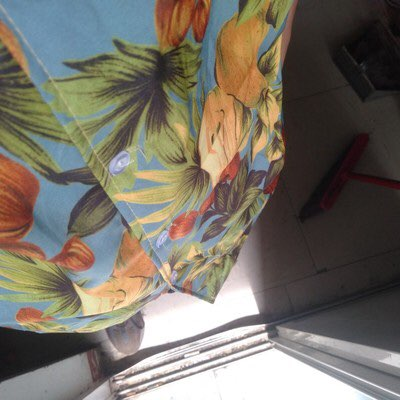shirts: (1, 1, 293, 305)
